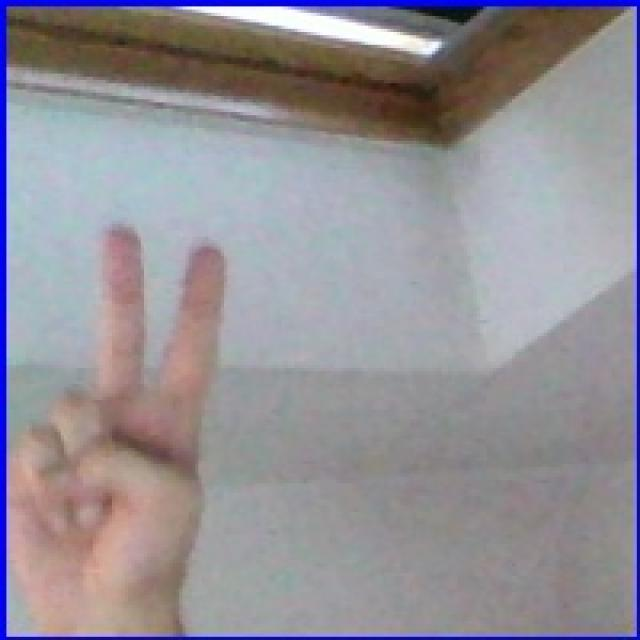Letra-V: (10, 214, 241, 630)
